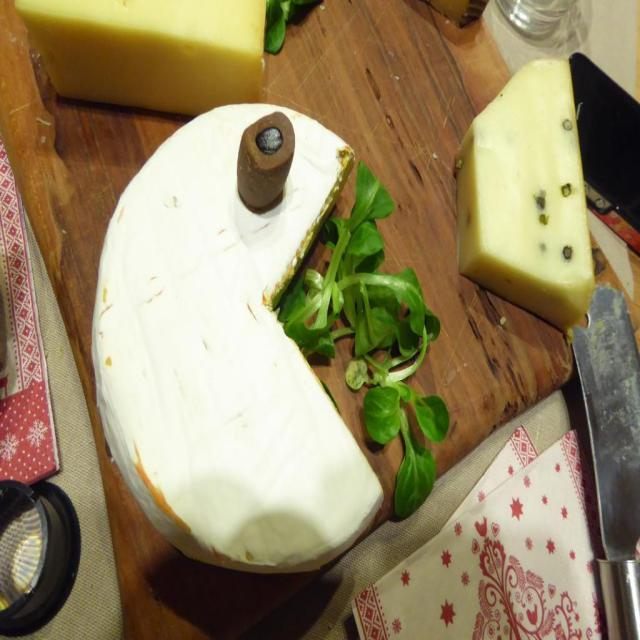Knife: (572, 286, 640, 639)
